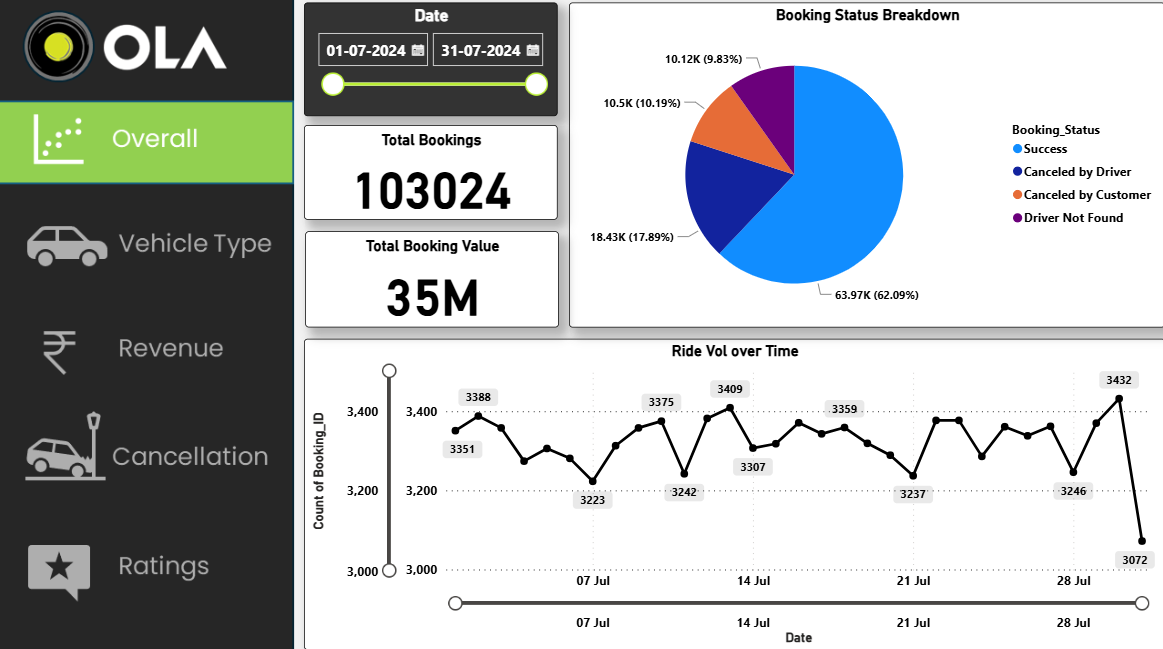

The dashboard page shown, as its layout file describes it:
{"tool":"powerbi","page":{"name":"Overall","canvas":[1280,720],"ordinal":0},"visuals":[{"type":"actionButton","box":[0,219.5,325.6,91.7],"z":0},{"type":"actionButton","box":[0,338.9,325.6,91.7],"z":1000},{"type":"actionButton","box":[0,577.7,325.6,91.7],"z":2000},{"type":"actionButton","box":[0,452.3,325.6,91.7],"z":3000},{"type":"lineChart","title":"Ride Vol over Time","fields":{"Y":["CountNonNull(July.Booking_ID)"],"Category":["July.Date"]},"box":[334.8,371.9,945.5,341.7],"z":4000},{"type":"pieChart","title":"Booking Status Breakdown","fields":{"Category":["July.Booking_Status"],"Y":["CountNonNull(July.Booking_Status)"]},"box":[625.7,2.7,654.5,356.8],"z":5000},{"type":"slicer","title":"Date","fields":{"Values":["July.Date"]},"box":[334.8,2.7,278.6,124.9],"z":6000},{"type":"card","title":"Total Bookings","fields":{"Values":["CountNonNull(July.Booking_ID)"]},"box":[334.8,137.2,278.6,104.3],"z":7000},{"type":"card","title":"Total Booking Value","fields":{"Values":["Sum(July.Booking_Value)"]},"box":[336.2,253.9,278.6,105.7],"z":8000}]}

Visuals, with their boxes in screenshot pixels (x1, y1, x2, y2), scaled from the page's 1280x720 canvas onto the 1163x649 screenshot:
actionButton: 0/198/296/281
actionButton: 0/305/296/388
actionButton: 0/521/296/603
actionButton: 0/408/296/490
"Ride Vol over Time" lineChart: 304/335/1162/643
"Booking Status Breakdown" pieChart: 569/2/1162/324
"Date" slicer: 304/2/557/115
"Total Bookings" card: 304/124/557/218
"Total Booking Value" card: 305/229/559/324
